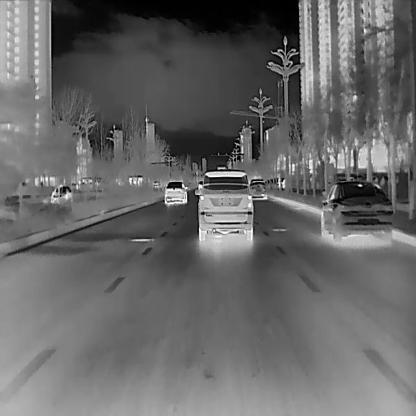car: (320, 180, 393, 241), (193, 169, 254, 240), (163, 181, 187, 203), (48, 185, 72, 203), (249, 178, 267, 200)
